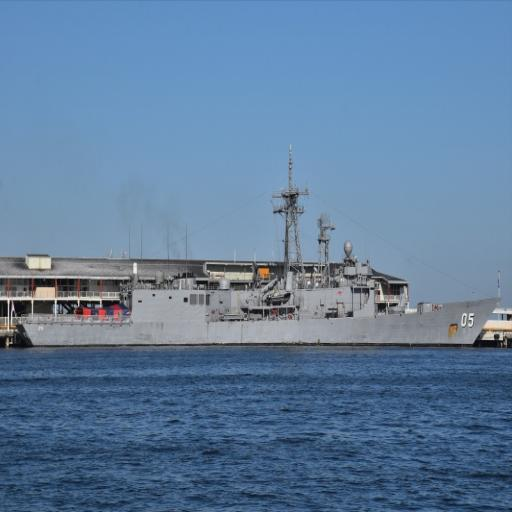Fragata: (11, 140, 504, 352)
